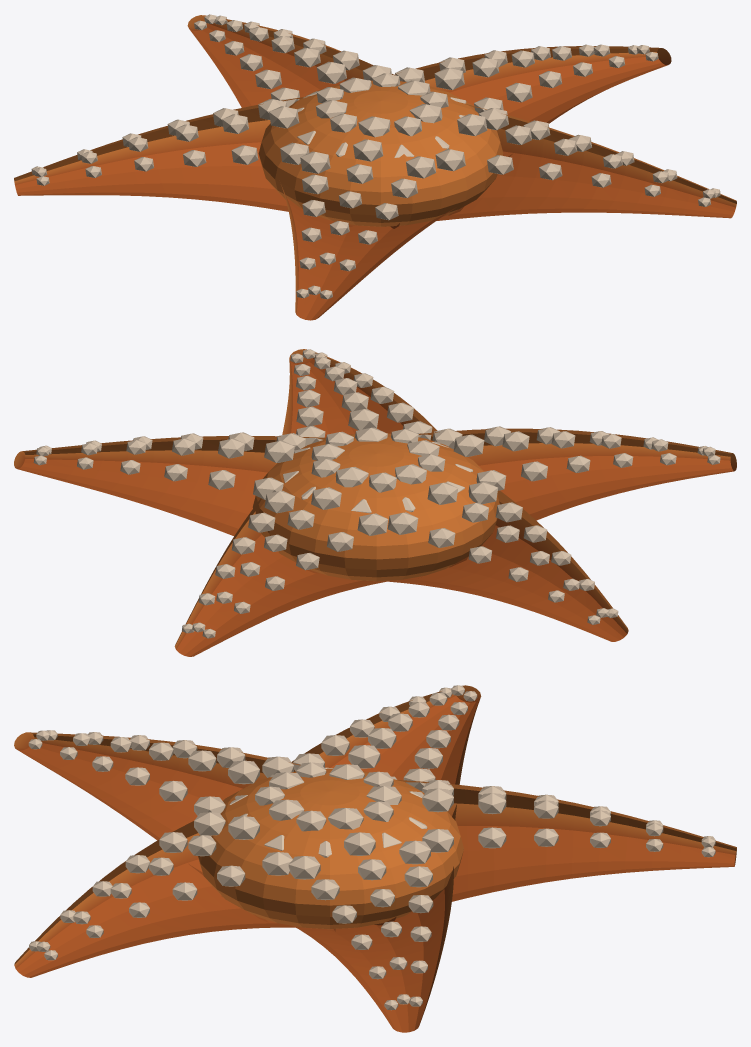
Rendered from starfish.glb.
3 views of the same model, one above another, from view 1: azimuth 30°, elevation 25°; view 2: azimuth 150°, elevation 25°; view 3: azimuth 270°, elevation 25° (orthographic). The views are drawn at different scales.
Parts seen in each view (by area): view 1: Starfish; view 2: Starfish; view 3: Starfish.
Boxes of the visible parts, x1,y1,x2,y2 form: Starfish: (14, 14, 736, 320); Starfish: (14, 349, 736, 656); Starfish: (14, 685, 736, 1032).
Bounding box in the file's own units: 2.24 × 0.3958 × 2.05.
